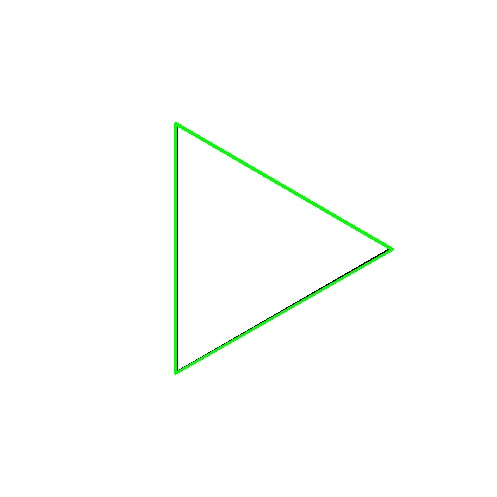line_segment: (174, 123, 393, 374)
